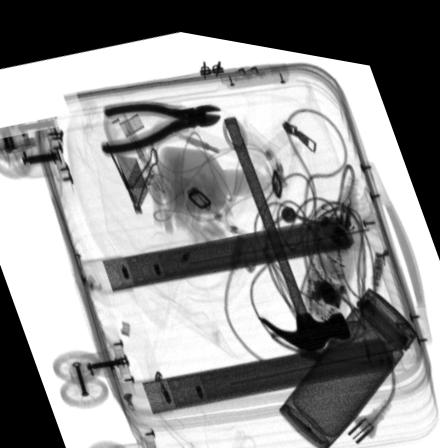Hammer: (223, 108, 353, 338)
Pliers: (99, 94, 222, 153)
